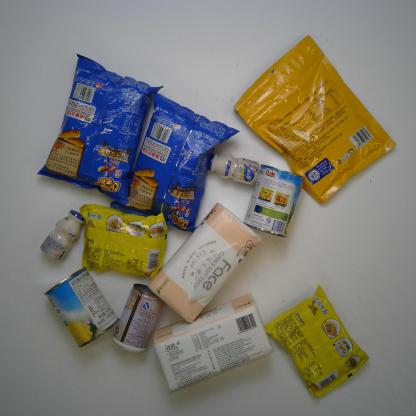Canned Food: (46, 267, 119, 348), (240, 155, 306, 238), (113, 284, 169, 351)
Dried Fruit: (237, 36, 399, 208)
Instant Noodles: (272, 288, 370, 398), (77, 196, 170, 279)
Milk: (40, 207, 91, 260), (206, 151, 261, 184)
Puffed Food: (36, 55, 164, 205), (111, 90, 239, 233)
Tissue: (151, 203, 258, 319), (153, 297, 273, 394)
